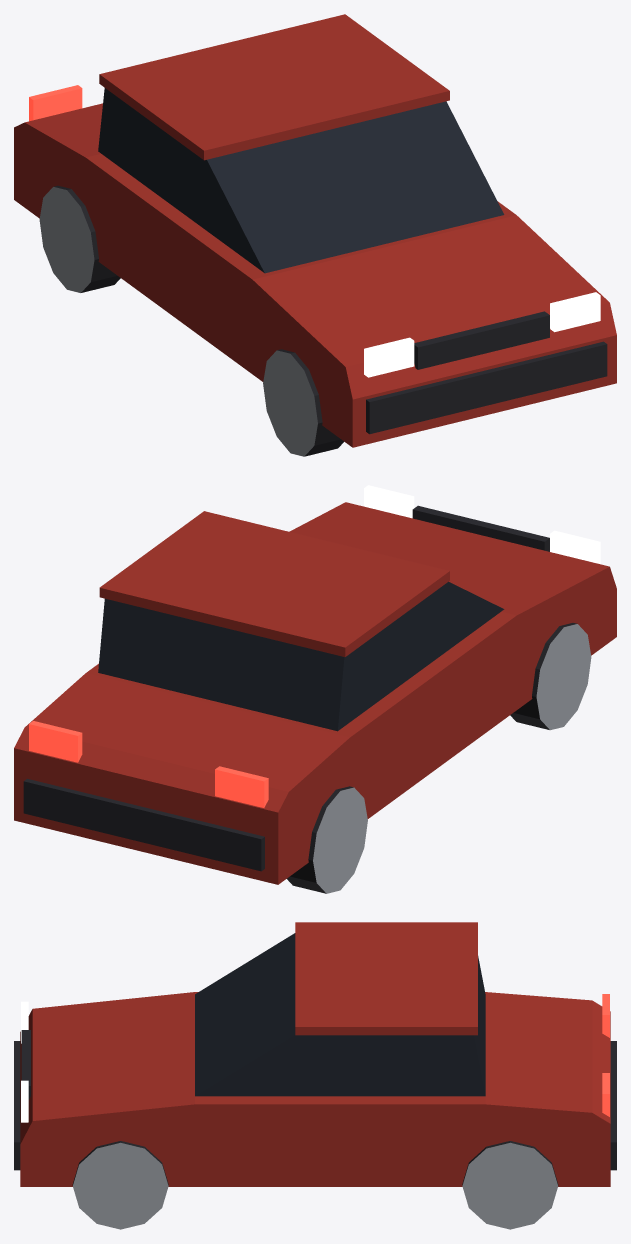
The model's file is hatchback_red.glb.
3 renders of one model, top to bottom at view 1: azimuth 30°, elevation 25°; view 2: azimuth 150°, elevation 25°; view 3: azimuth 270°, elevation 25°, orthographic. The views are drawn at different scales.
Visible parts, largest first — view 1: hatchback_red, wheel_FR, wheel_RR; view 2: hatchback_red, wheel_RR, wheel_FR; view 3: hatchback_red, wheel_FL, wheel_RL.
Boxes of the visible parts, <box> form: hatchback_red: <box>14,14,616,447</box>; wheel_FR: <box>263,349,343,456</box>; wheel_RR: <box>39,185,120,292</box>; hatchback_red: <box>14,485,616,884</box>; wheel_RR: <box>287,786,367,893</box>; wheel_FR: <box>510,623,591,730</box>; hatchback_red: <box>14,922,616,1186</box>; wheel_FL: <box>72,1141,168,1229</box>; wheel_RL: <box>462,1141,558,1229</box>.
Bounding box in the file's own units: 1.78 × 1.41 × 3.9.
